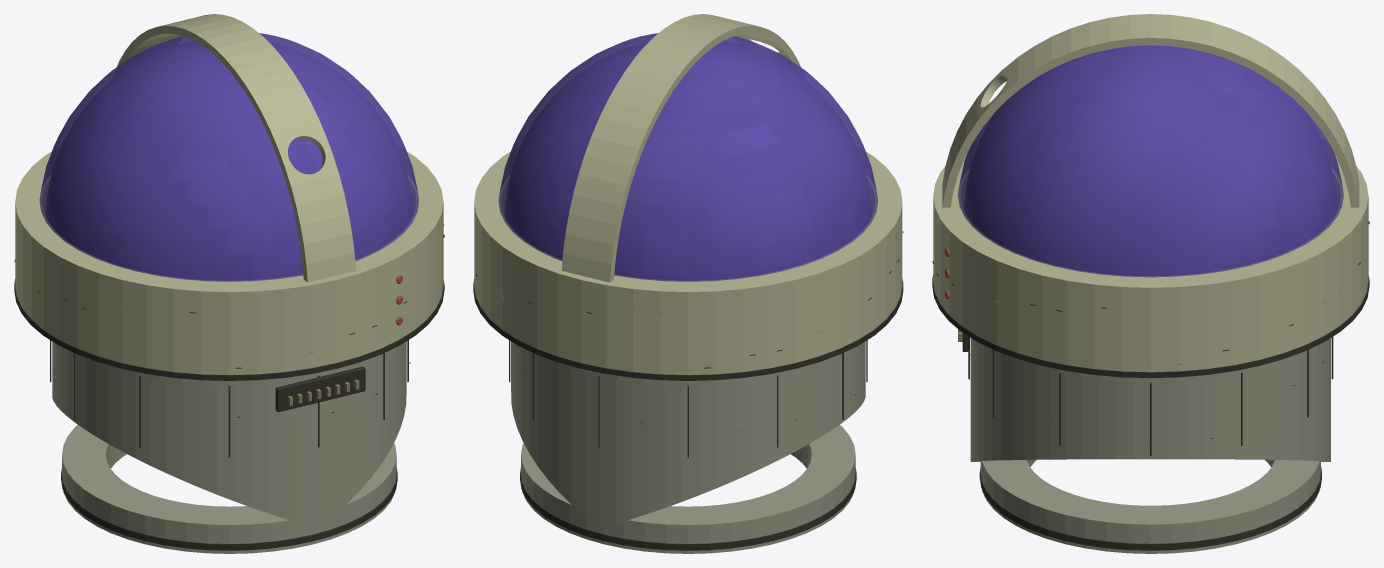
File: missile-guidance-system.glb
3 renders of one model, left to right at view 1: azimuth 30°, elevation 25°; view 2: azimuth 150°, elevation 25°; view 3: azimuth 270°, elevation 25°, orthographic.
Visible parts, largest first — view 1: Translucent holographic sphere, Holographic map core, Broad guidance interface belt, Pointed front armour skirt, Arched targeting interface strap, Bottom computer mounting plinth, Belt dark lower joint, Base grime seam, Targeting data slot recess, Pointed rear armour skirt, Computer upper armoured collar; view 2: Translucent holographic sphere, Holographic map core, Broad guidance interface belt, Pointed rear armour skirt, Arched targeting interface strap, Bottom computer mounting plinth, Belt dark lower joint, Base grime seam, Pointed front armour skirt, Computer upper armoured collar; view 3: Translucent holographic sphere, Holographic map core, Broad guidance interface belt, Pointed front armour skirt, Pointed rear armour skirt, Bottom computer mounting plinth, Arched targeting interface strap, Belt dark lower joint, Base grime seam, Computer upper armoured collar.
Part boxes in pixels (box(x1,y1,x2,y2)): Translucent holographic sphere: box(39, 33, 418, 281); Holographic map core: box(46, 41, 412, 280); Broad guidance interface belt: box(15, 151, 443, 375); Pointed front armour skirt: box(76, 341, 406, 528); Arched targeting interface strap: box(117, 14, 355, 282); Bottom computer mounting plinth: box(62, 425, 396, 553); Belt dark lower joint: box(14, 279, 444, 380); Base grime seam: box(61, 468, 397, 550); Targeting data slot recess: box(275, 366, 365, 412); Pointed rear armour skirt: box(52, 341, 75, 422); Computer upper armoured collar: box(99, 362, 359, 385); Translucent holographic sphere: box(498, 33, 877, 281); Holographic map core: box(505, 41, 871, 280); Broad guidance interface belt: box(474, 151, 902, 375); Pointed rear armour skirt: box(511, 341, 841, 527); Arched targeting interface strap: box(561, 14, 800, 282); Bottom computer mounting plinth: box(521, 425, 855, 553); Belt dark lower joint: box(473, 278, 903, 380); Base grime seam: box(520, 468, 856, 550); Pointed front armour skirt: box(842, 341, 865, 422); Computer upper armoured collar: box(558, 362, 817, 385); Translucent holographic sphere: box(958, 45, 1343, 277); Holographic map core: box(964, 45, 1337, 275); Broad guidance interface belt: box(933, 153, 1368, 372); Pointed front armour skirt: box(970, 338, 1150, 461); Pointed rear armour skirt: box(1151, 338, 1330, 461); Bottom computer mounting plinth: box(980, 459, 1320, 553); Arched targeting interface strap: box(942, 14, 1359, 207); Belt dark lower joint: box(932, 274, 1369, 378); Base grime seam: box(979, 467, 1321, 550); Computer upper armoured collar: box(1019, 359, 1283, 382).
Size of the model in its own units: 2.16 by 2.49 by 2.16.
